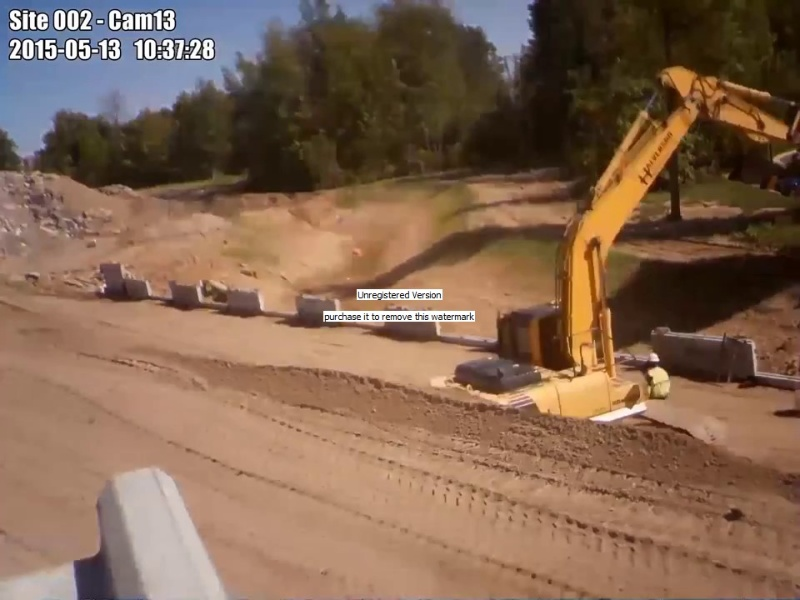excavator: (430, 64, 800, 447)
hardhat: (647, 352, 661, 362)
person: (643, 352, 671, 401)
wall: (98, 261, 441, 337)
